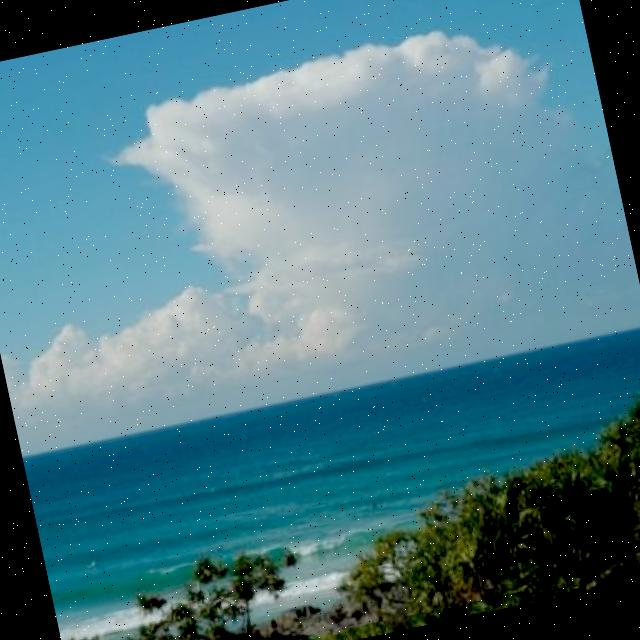Cb: (1, 1, 640, 451)
